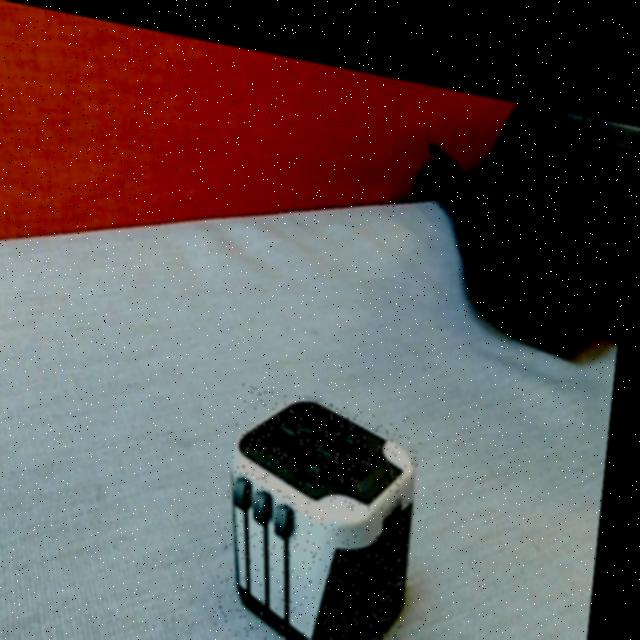adapter: (224, 371, 431, 640)
